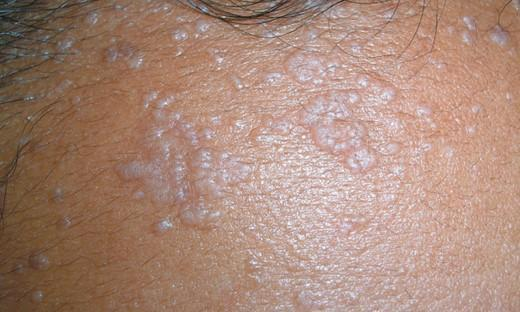syringoma: (101, 92, 271, 237), (281, 42, 426, 181), (50, 4, 254, 81), (10, 241, 61, 312), (455, 10, 513, 65), (46, 174, 88, 238)
